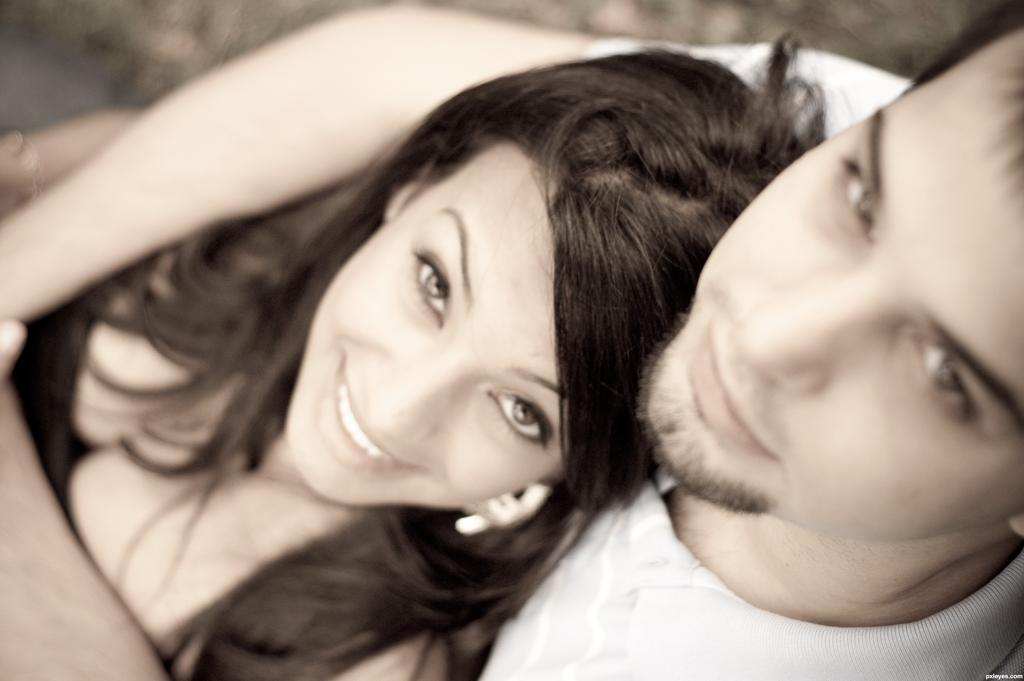face: (632, 56, 1024, 522), (284, 146, 614, 508)
